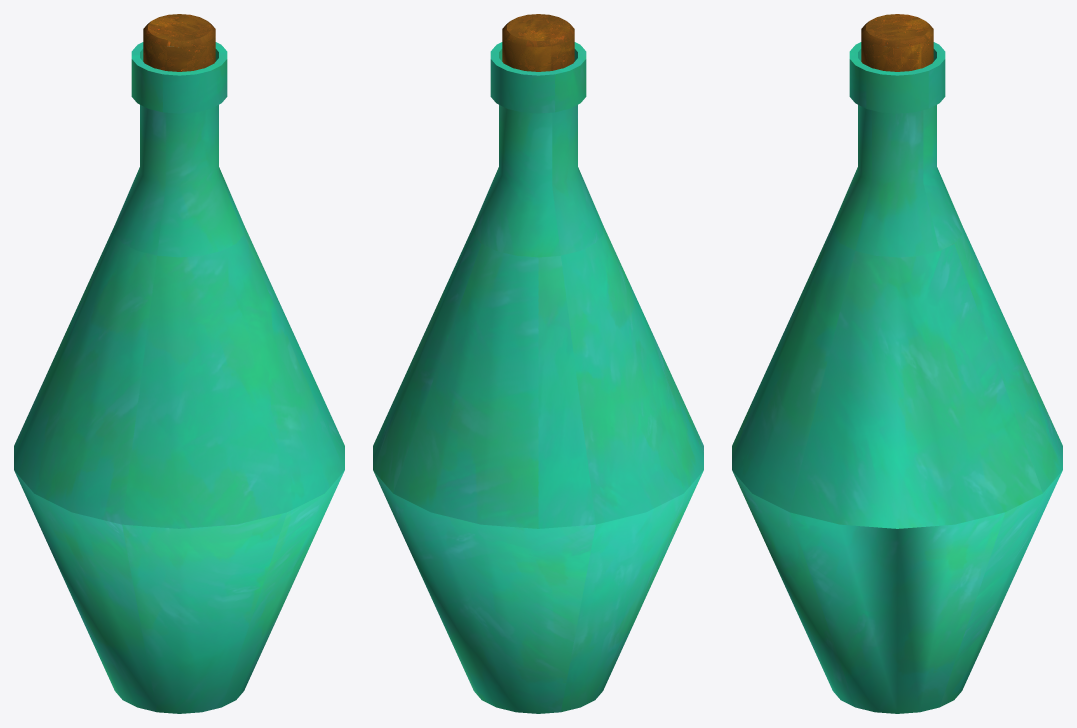
The model's file is House_Bottle04_v01.fbx.
The picture shows the model from 3 angles, left to right: view 1: azimuth 30°, elevation 25°; view 2: azimuth 150°, elevation 25°; view 3: azimuth 270°, elevation 25°; orthographic projection.
Visible parts, largest first — view 1: BottleBody_04, BottleCap_04; view 2: BottleBody_04, BottleCap_04; view 3: BottleBody_04, BottleCap_04.
Part boxes in pixels (left/top/right/bottom): BottleBody_04: left=14, top=42, right=344, bottom=713; BottleCap_04: left=143, top=14, right=215, bottom=71; BottleBody_04: left=373, top=42, right=703, bottom=713; BottleCap_04: left=502, top=14, right=574, bottom=71; BottleBody_04: left=732, top=42, right=1062, bottom=713; BottleCap_04: left=861, top=14, right=933, bottom=71.
Size of the model in its own units: 4 by 3.94 by 8.66.
Materials: 2 (2 with a texture image).
